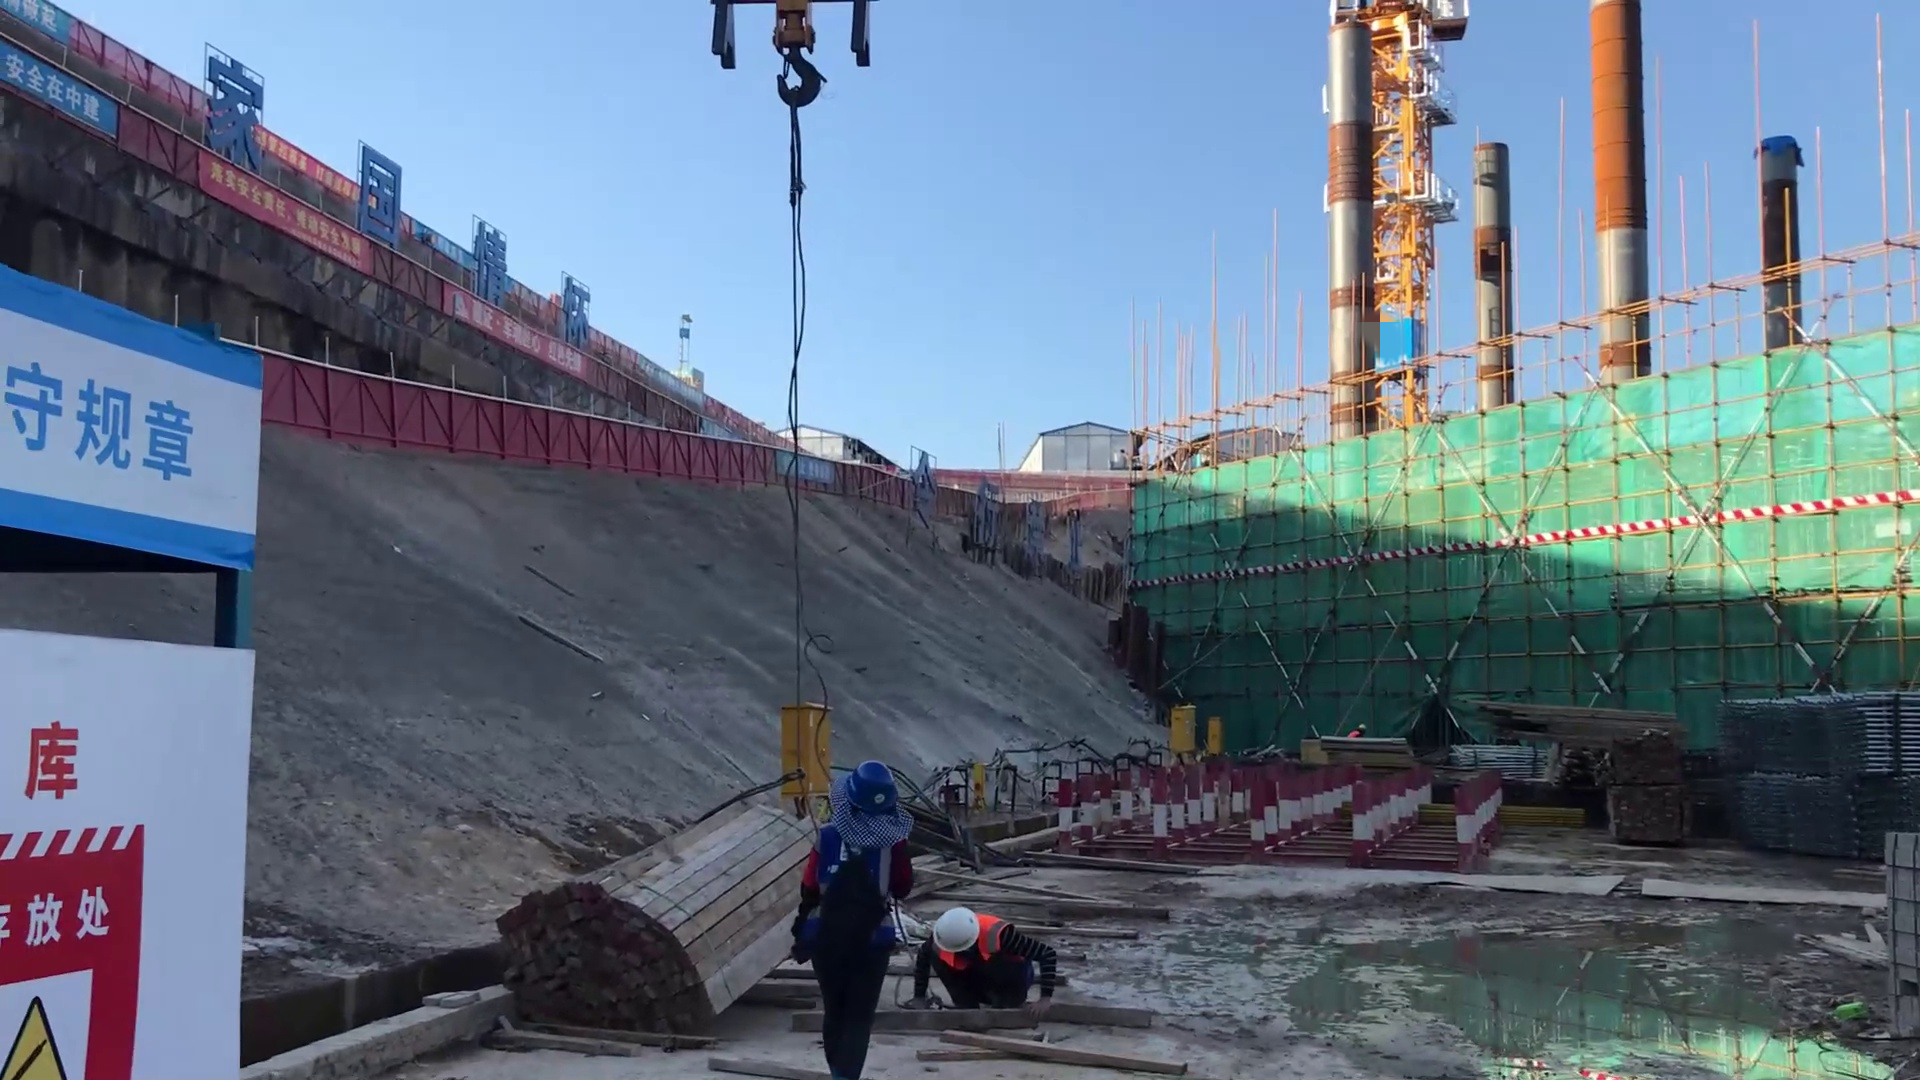ebox: (769, 681, 849, 808), (1158, 707, 1197, 759), (1203, 713, 1224, 752)
fence: (259, 349, 748, 486), (747, 444, 921, 498)
helmet: (843, 759, 895, 815)
person: (788, 757, 902, 1080), (916, 911, 1056, 1028)
scaffold: (1699, 737, 1912, 872), (1718, 682, 1920, 770)
slogan: (1, 329, 241, 567), (156, 148, 389, 301), (1, 885, 158, 1074), (1, 62, 128, 150)
wood: (497, 765, 780, 1046), (1443, 675, 1680, 757)
